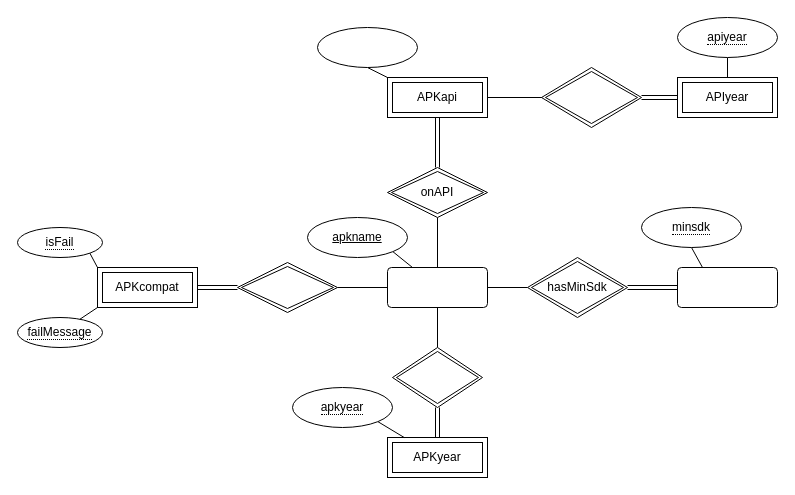
Some shapes in this 795 by 495 pixel diagram are drawn without their labels. The box of each missing label's shape, as (x1, y1, x2, y2) in pixels:
apiAPI: (316, 26, 418, 68)
APK: (386, 266, 488, 308)
APKminsdk: (676, 266, 778, 308)
isCompat: (236, 262, 338, 312)
toAPIyear: (540, 66, 642, 128)
yearBelong: (392, 346, 482, 408)
